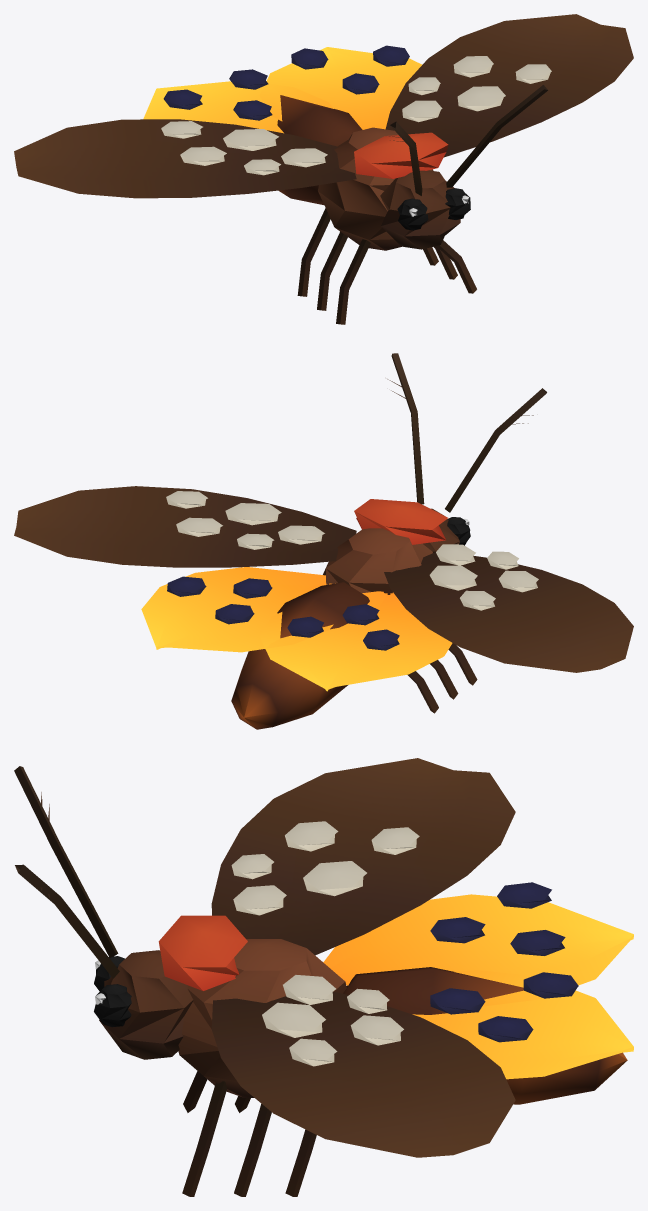
File: embermoth.glb
3 renders of one model, top to bottom at view 1: azimuth 30°, elevation 25°; view 2: azimuth 150°, elevation 25°; view 3: azimuth 270°, elevation 25°, orthographic. The views are drawn at different scales.
Parts seen in each view (by area): view 1: wing_R, wing_L, body, wing_L_glow, wing_R_glow, leg_R0, leg_R2, leg_R1, leg_L0; view 2: wing_L, wing_R, body, wing_L_glow, wing_R_glow; view 3: wing_R, wing_L, body, wing_R_glow, wing_L_glow, leg_L0, leg_L1, leg_L2.
Boxes of the visible parts, left/top/right/bottom form: wing_R: left=14, top=69, right=356, bottom=198; wing_L: left=291, top=14, right=633, bottom=157; body: left=277, top=85, right=547, bottom=250; wing_L_glow: left=259, top=47, right=421, bottom=129; wing_R_glow: left=143, top=81, right=333, bottom=133; leg_R0: left=336, top=239, right=370, bottom=324; leg_R2: left=297, top=208, right=330, bottom=296; leg_R1: left=317, top=231, right=347, bottom=310; leg_L0: left=436, top=240, right=476, bottom=293; wing_L: left=14, top=486, right=356, bottom=624; wing_R: left=287, top=544, right=633, bottom=672; body: left=231, top=353, right=546, bottom=729; wing_L_glow: left=141, top=567, right=335, bottom=652; wing_R_glow: left=259, top=591, right=452, bottom=691; wing_R: left=211, top=758, right=565, bottom=955; wing_L: left=211, top=972, right=578, bottom=1157; body: left=14, top=766, right=627, bottom=1104; wing_R_glow: left=323, top=894, right=633, bottom=1006; wing_L_glow: left=412, top=970, right=633, bottom=1079; leg_L0: left=182, top=1081, right=226, bottom=1196; leg_L1: left=234, top=1104, right=271, bottom=1196; leg_L2: left=285, top=1129, right=316, bottom=1196.
Size of the model in its own units: 1.28 by 0.5098 by 0.8405.
